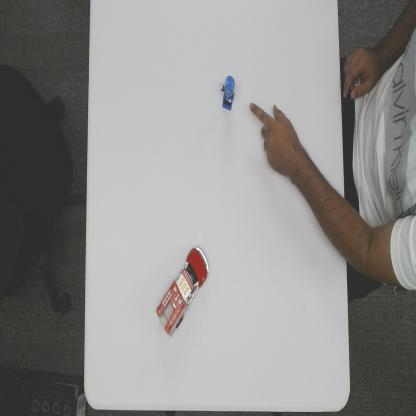Arm: (296, 154, 345, 256)
Firetruck: (154, 244, 210, 338)
Hand: (248, 99, 300, 174)
